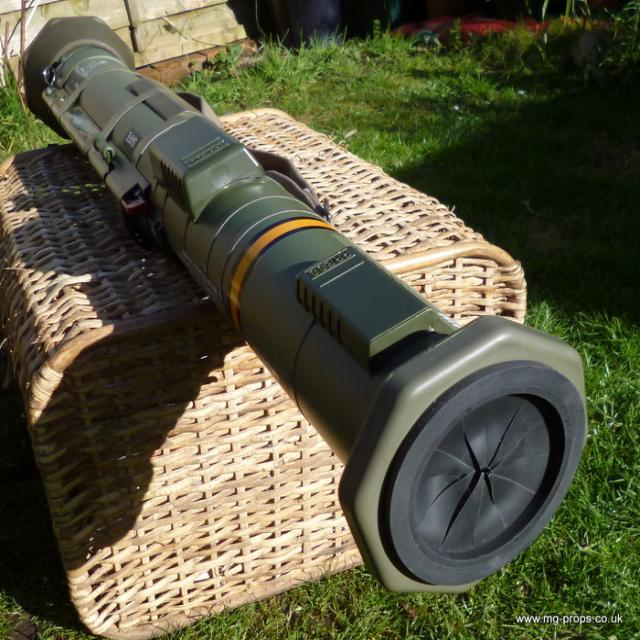bazooka: (11, 10, 600, 600)
